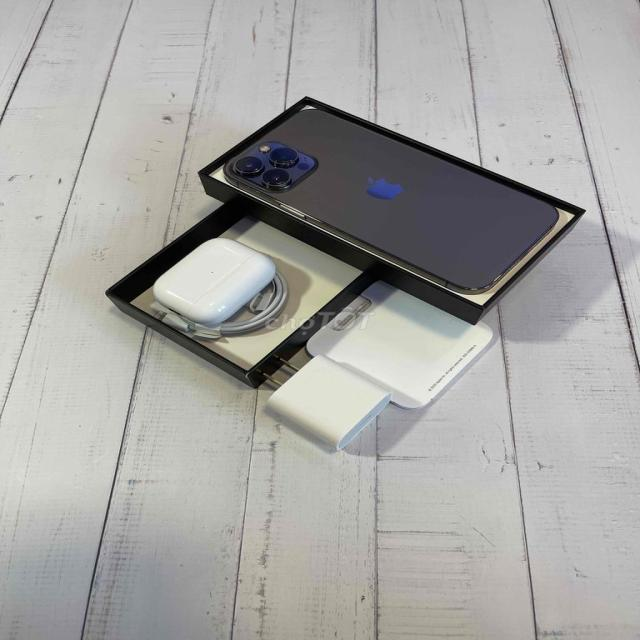gen_12_13: (212, 101, 562, 302)
